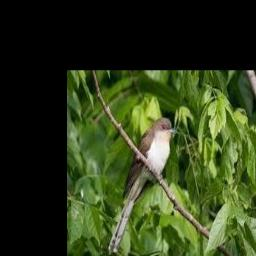Cuckoo: (107, 117, 176, 254)
